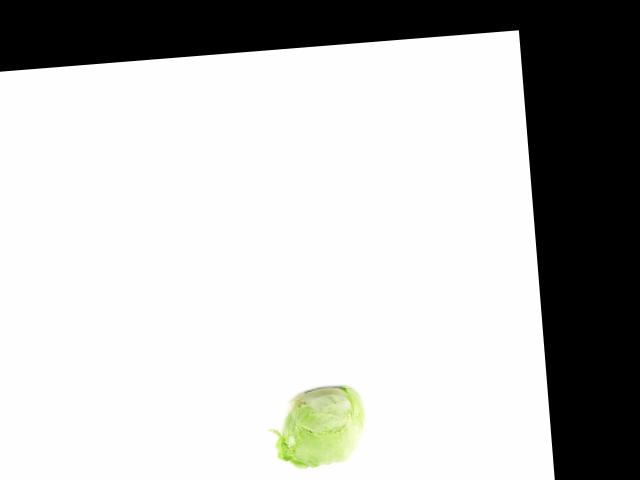lettuce: (274, 380, 372, 474)
